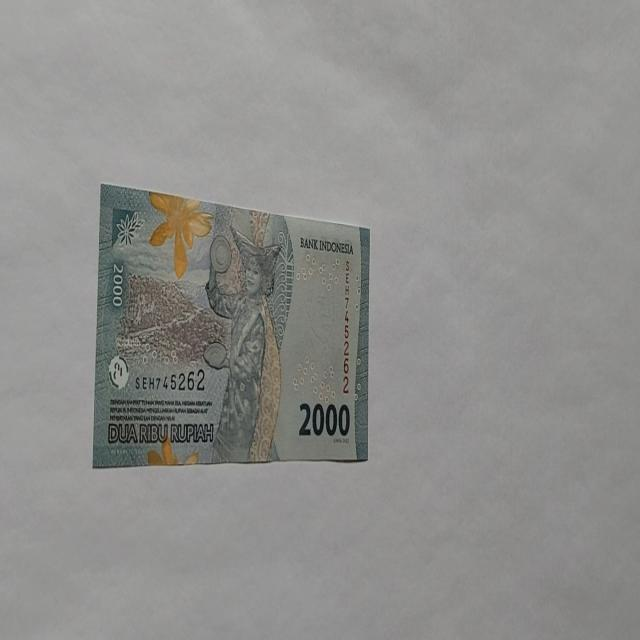dua ribu rupiah: (92, 182, 370, 468), (203, 225, 283, 463), (147, 189, 213, 279)
